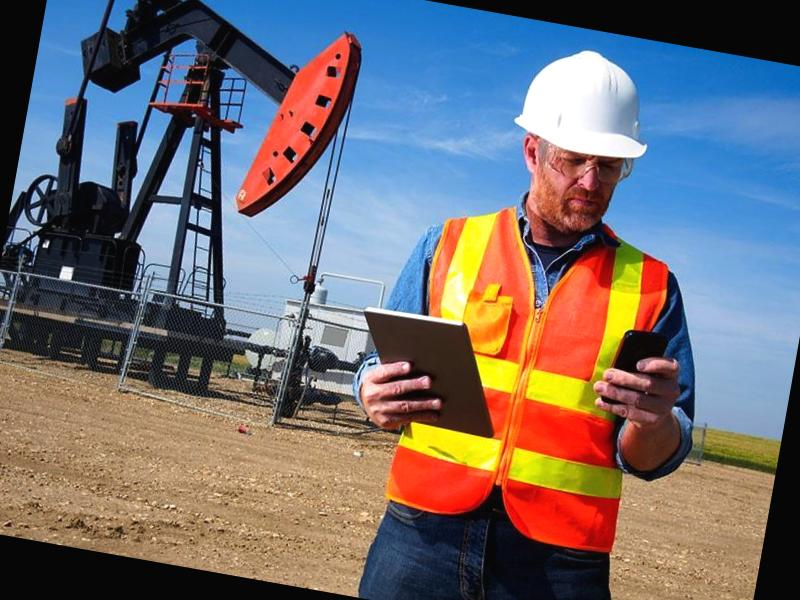helmet: (505, 33, 668, 184)
person: (346, 17, 734, 600)
